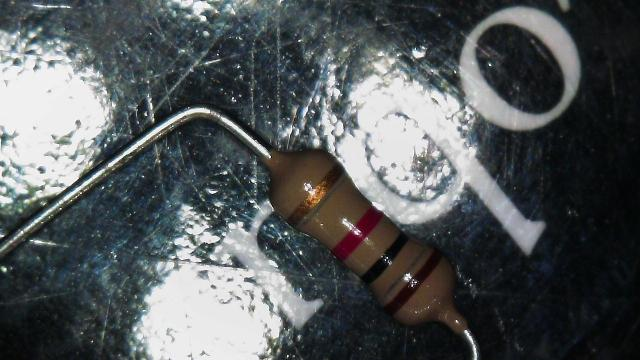black: (360, 232, 410, 285)
brown: (383, 248, 442, 316)
gold: (288, 164, 343, 226)
red: (332, 206, 382, 262)
resistor: (214, 108, 486, 351)
